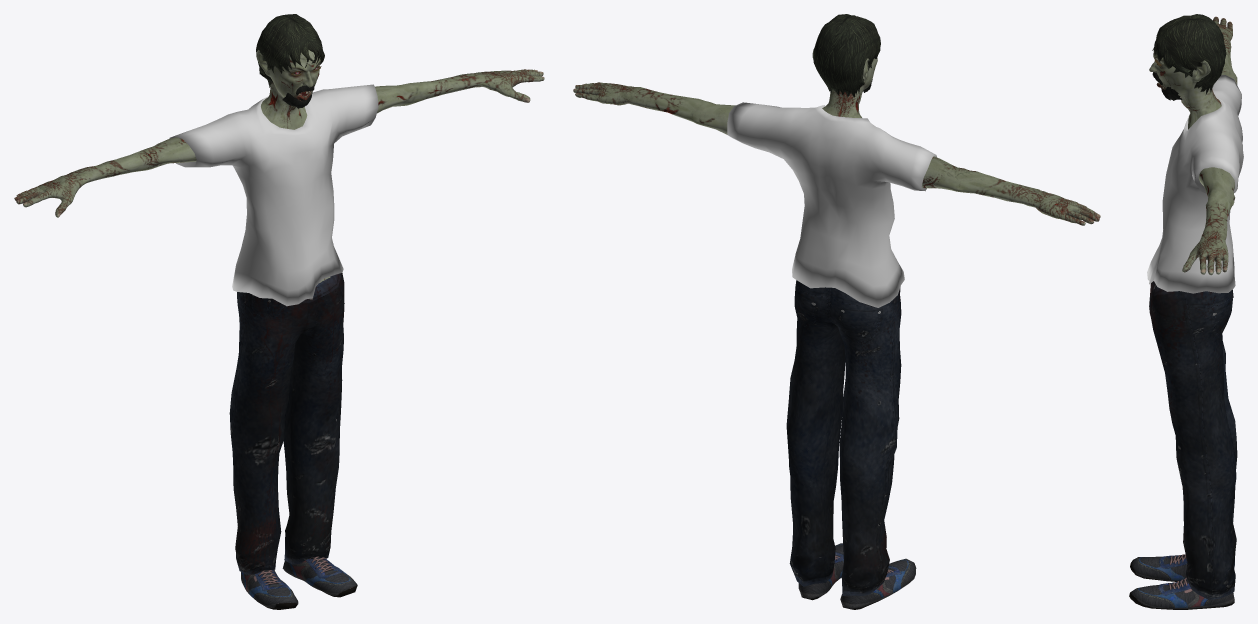
File: zombieObj.obj
3 views of the same model, side by side, from view 1: azimuth 30°, elevation 25°; view 2: azimuth 150°, elevation 25°; view 3: azimuth 270°, elevation 25° (orthographic).
Parts seen in each view (by area): view 1: Bottoms, Tops, Body, Shoes, Hair; view 2: Bottoms, Tops, Body, Hair, Shoes; view 3: Bottoms, Tops, Body, Hair, Shoes, Beards.
Part boxes in pixels (box(x1,y1,x2,y2)): Bottoms: box(229, 273, 344, 574); Tops: box(169, 84, 378, 306); Body: box(14, 50, 544, 282); Shoes: box(241, 556, 357, 609); Hair: box(256, 14, 324, 87); Bottoms: box(786, 280, 901, 595); Tops: box(727, 102, 936, 307); Body: box(573, 48, 1100, 225); Hair: box(813, 14, 880, 97); Shoes: box(798, 543, 916, 609); Bottoms: box(1149, 281, 1237, 599); Tops: box(1147, 75, 1243, 293); Body: box(1149, 16, 1237, 275); Hair: box(1152, 14, 1226, 95); Shoes: box(1129, 554, 1234, 609); Beards: box(1161, 87, 1182, 100).
Bounding box in the file's own units: 185 × 192 × 34.7.
